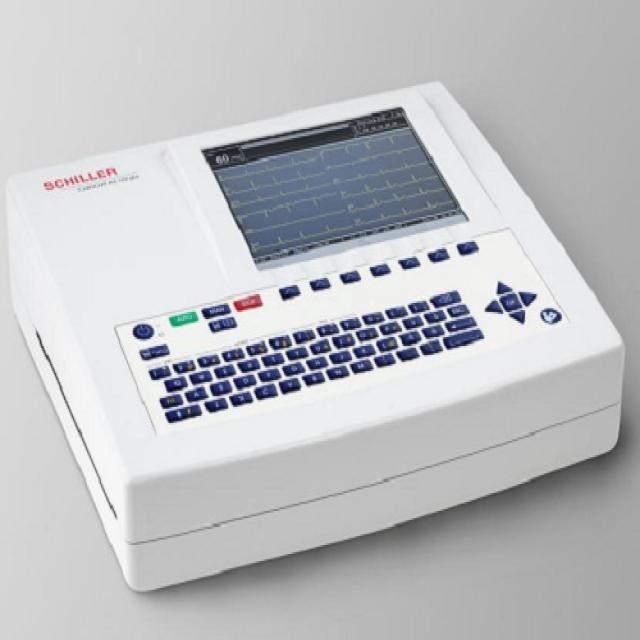Monitor: (5, 77, 626, 592)
